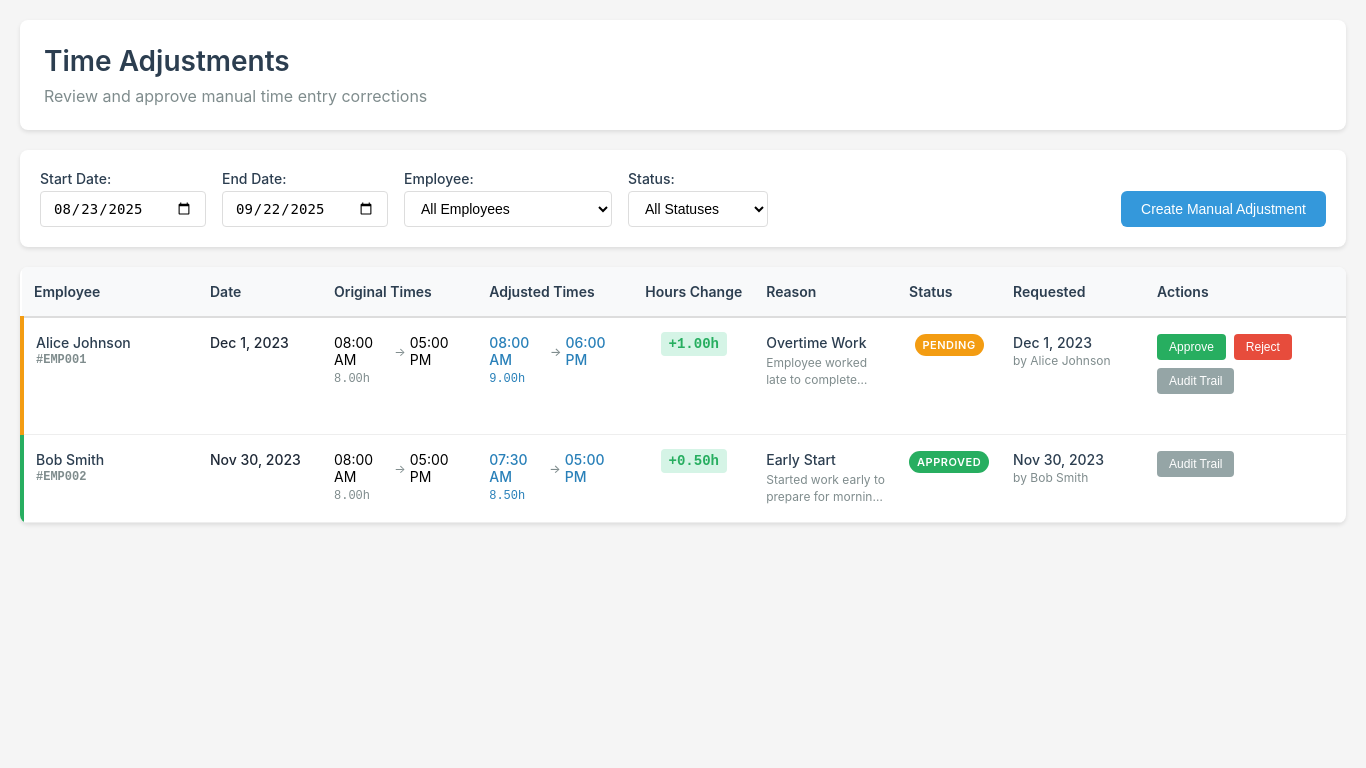
Test: TimeAdjustments Integration › shows approval modal for pending adjustments
Click the button "Approve" at [1191, 347], box [1157,334,1226,360]
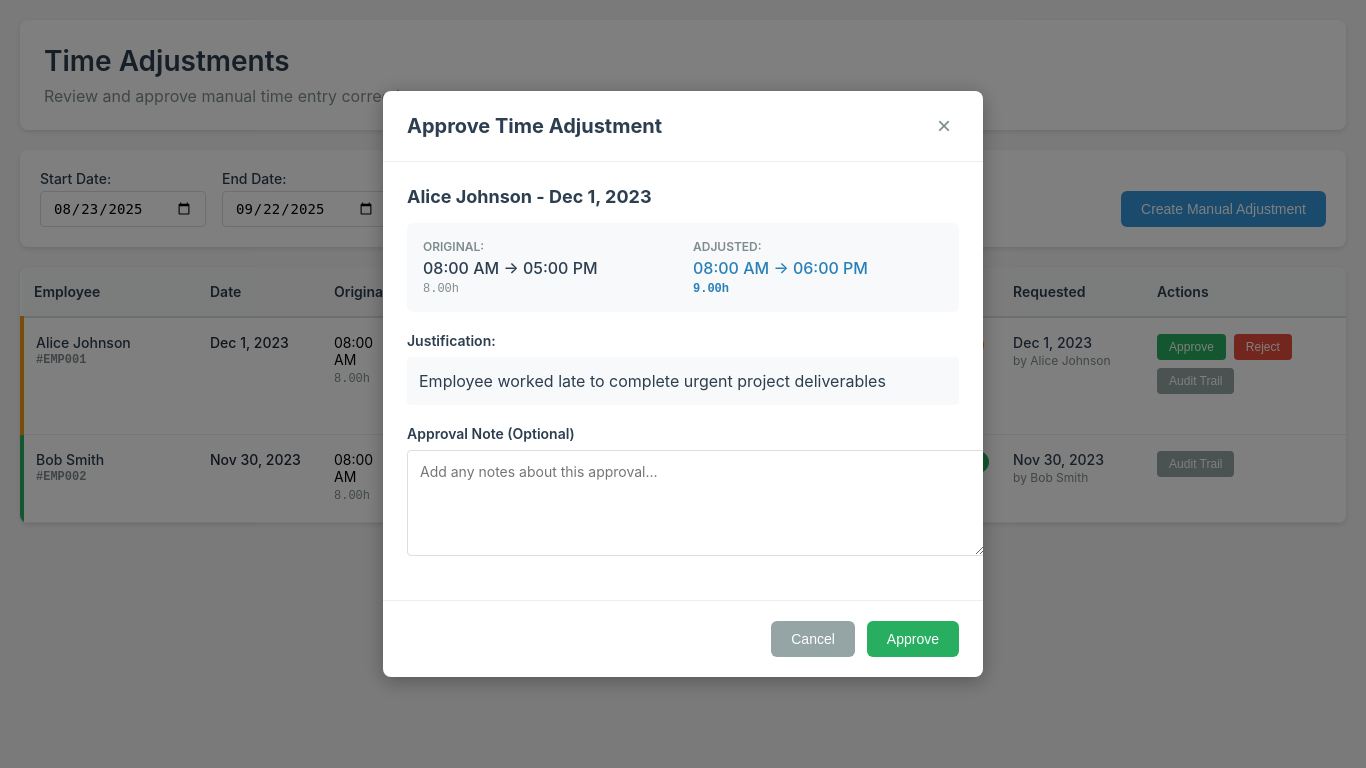
Expected: the text "Employee worked late to complete urgent project deliverables" is shown 2 times, [766,355,867,404]; [407,357,959,405]
Expected: the text "Approval Note (Optional)" is shown, [407,425,575,442]
Expected: the heading "Alice Johnson - Dec 1, 2023" is shown, [407,186,652,207]
